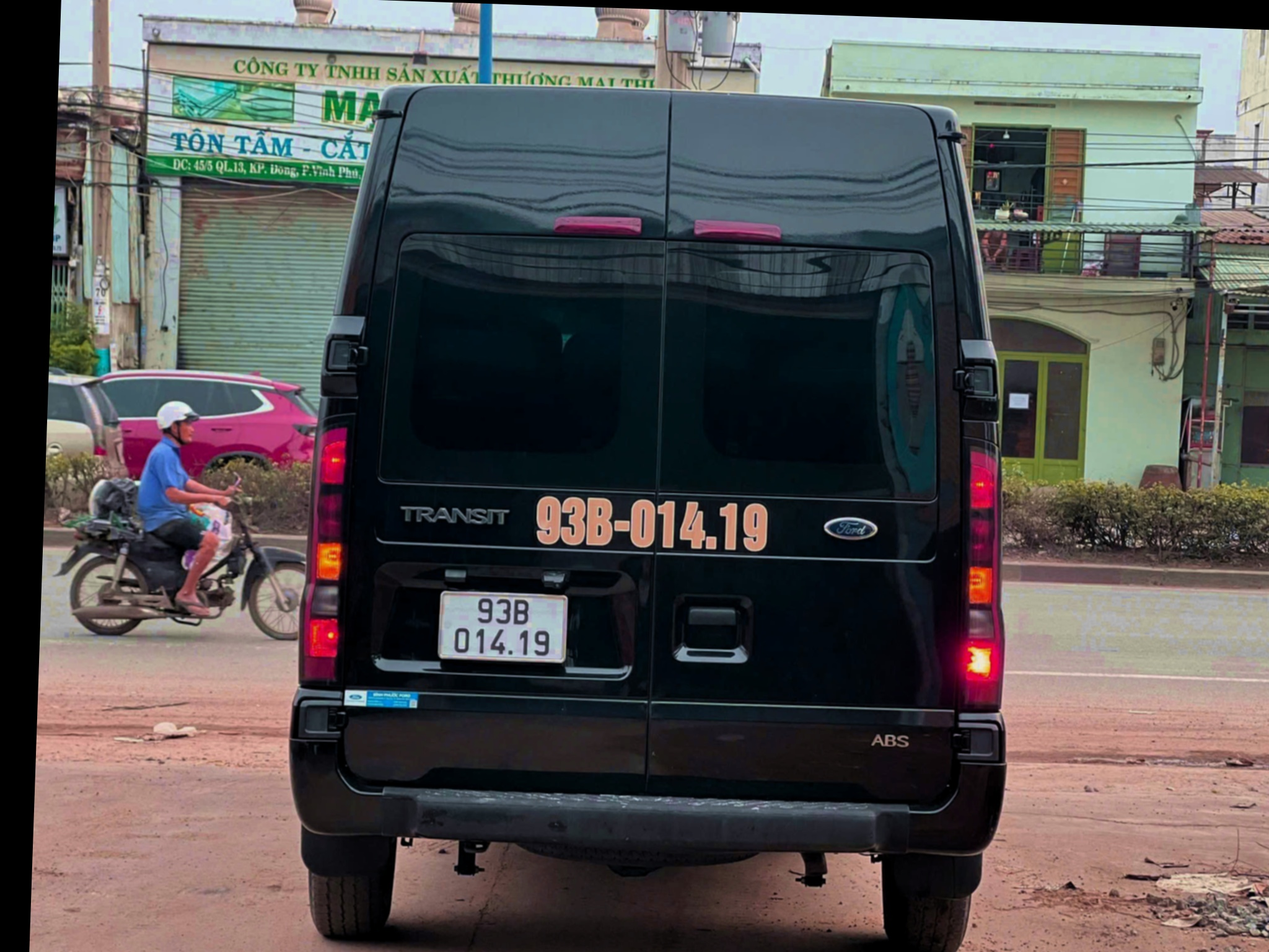Bien-so: (422, 552, 567, 634)
